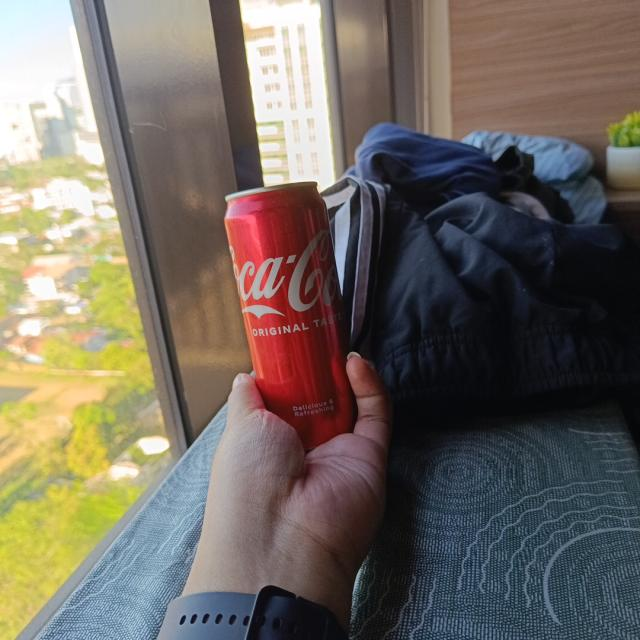coke: (225, 183, 353, 443)
